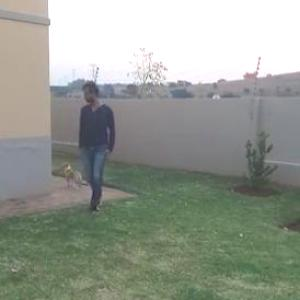follow: (74, 79, 115, 216)
